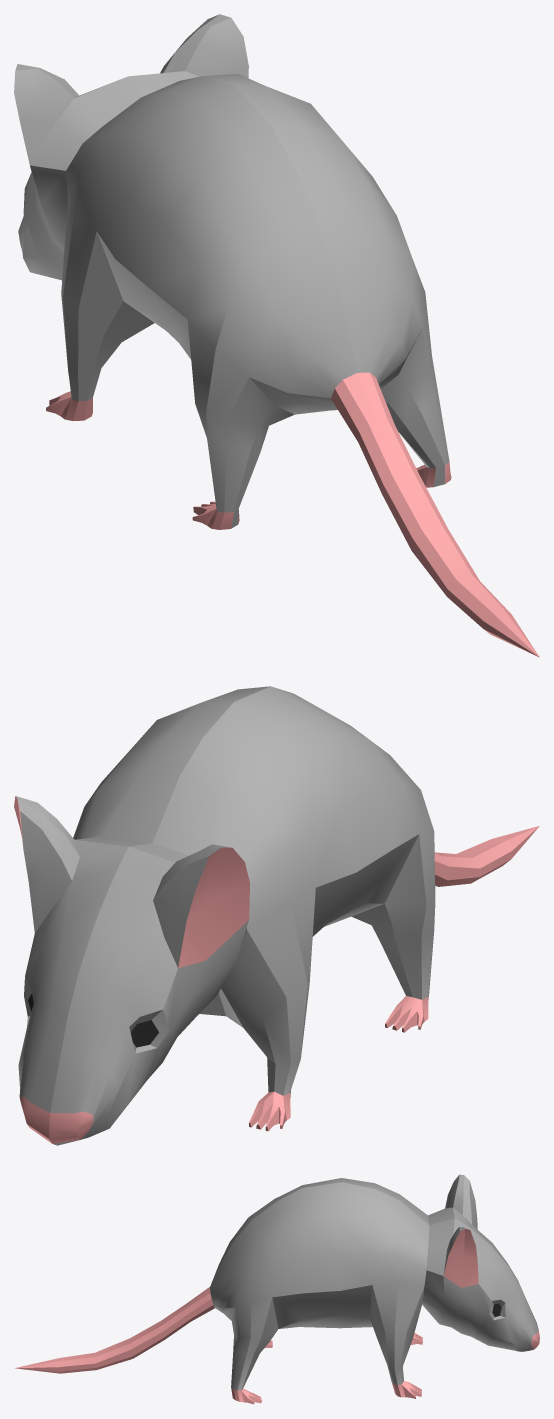
Rendered from Base Rat.fbx.
3 views of the same model, one above another, from view 1: azimuth 30°, elevation 25°; view 2: azimuth 150°, elevation 25°; view 3: azimuth 270°, elevation 25° (orthographic). The views are drawn at different scales.
Parts seen in each view (by area): view 1: Rat1; view 2: Rat1; view 3: Rat1.
Boxes of the visible parts, x1,y1,x2,y2 form: Rat1: [14, 14, 539, 657]; Rat1: [14, 686, 539, 1145]; Rat1: [15, 1174, 539, 1404].
Size of the model in its own units: 72.27 by 100 by 249.
1 material, 1 textured.
